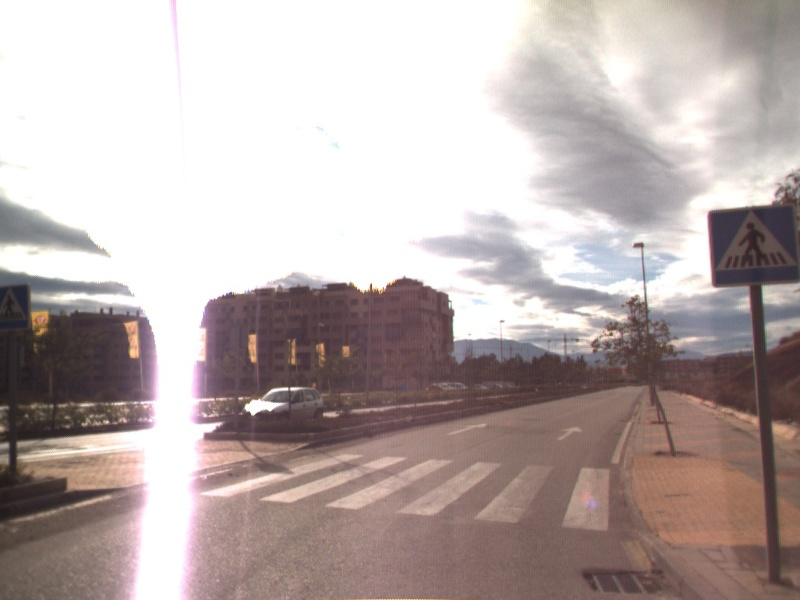STRAIGHT: (444, 421, 490, 437), (555, 424, 585, 442)
